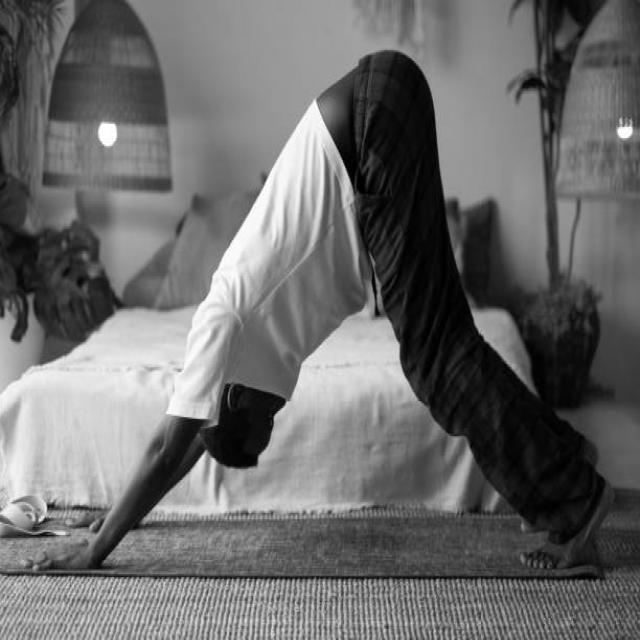Downward-Facing_Dog: (19, 41, 620, 578)
